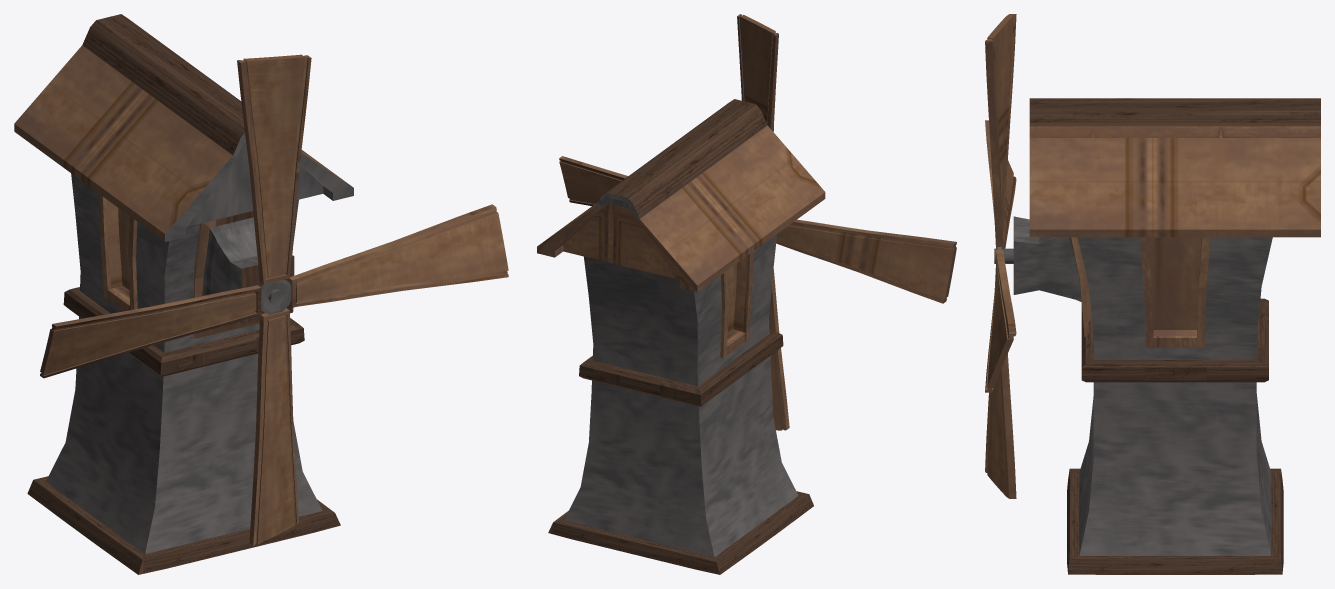
The model's file is WindmillLow 1.fbx.
3 views of the same model, side by side, from view 1: azimuth 30°, elevation 25°; view 2: azimuth 150°, elevation 25°; view 3: azimuth 270°, elevation 25° (orthographic). The views are drawn at different scales.
Visible parts, largest first — view 1: WindmillBase, Roof, TurbineWing004, TurbineWing003, TurbineWing001, TurbineWing002, BottomBeam, WoodBeam, WindowEdges, WoodPanel, Gear; view 2: WindmillBase, Roof, TurbineWing001, BottomBeam, WoodBeam, TurbineWing004, TurbineWing003, TurbineWing002, WindowEdges; view 3: WindmillBase, Roof, BottomBeam, WoodBeam, TurbineWing004, TurbineWing002, WindowEdges, TurbineWing003, TurbineWing001, WoodPanel.
Part boxes in pixels (bbox=[...]): WindmillBase: bbox=[46, 173, 322, 554]; Roof: bbox=[14, 14, 353, 241]; TurbineWing004: bbox=[237, 54, 311, 284]; TurbineWing003: bbox=[288, 204, 508, 307]; TurbineWing001: bbox=[40, 285, 261, 378]; TurbineWing002: bbox=[249, 308, 298, 545]; BottomBeam: bbox=[27, 476, 340, 574]; WoodBeam: bbox=[63, 287, 304, 376]; WindowEdges: bbox=[98, 194, 137, 311]; WoodPanel: bbox=[193, 211, 259, 338]; Gear: bbox=[261, 279, 291, 314]; WindmillBase: bbox=[564, 234, 798, 557]; Roof: bbox=[537, 99, 825, 292]; TurbineWing001: bbox=[776, 219, 956, 303]; BottomBeam: bbox=[548, 491, 813, 574]; WoodBeam: bbox=[579, 330, 783, 406]; TurbineWing004: bbox=[737, 14, 778, 131]; TurbineWing003: bbox=[559, 156, 627, 205]; TurbineWing002: bbox=[769, 269, 789, 430]; WindowEdges: bbox=[720, 251, 753, 357]; WindmillBase: bbox=[1013, 216, 1272, 555]; Roof: bbox=[1029, 98, 1320, 237]; BottomBeam: bbox=[1067, 468, 1283, 574]; WoodBeam: bbox=[1081, 298, 1268, 382]; TurbineWing004: bbox=[985, 14, 1016, 246]; TurbineWing002: bbox=[985, 268, 1016, 498]; WindowEdges: bbox=[1140, 237, 1210, 347]; TurbineWing003: bbox=[985, 250, 1016, 392]; TurbineWing001: bbox=[985, 120, 1016, 248]; WoodPanel: bbox=[1070, 237, 1091, 336].
Size of the model in its own units: 920 by 1001 by 609.
